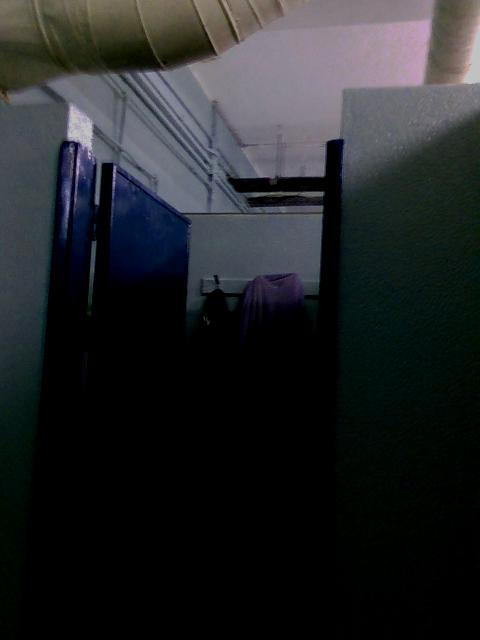open_door: (22, 101, 343, 638)
